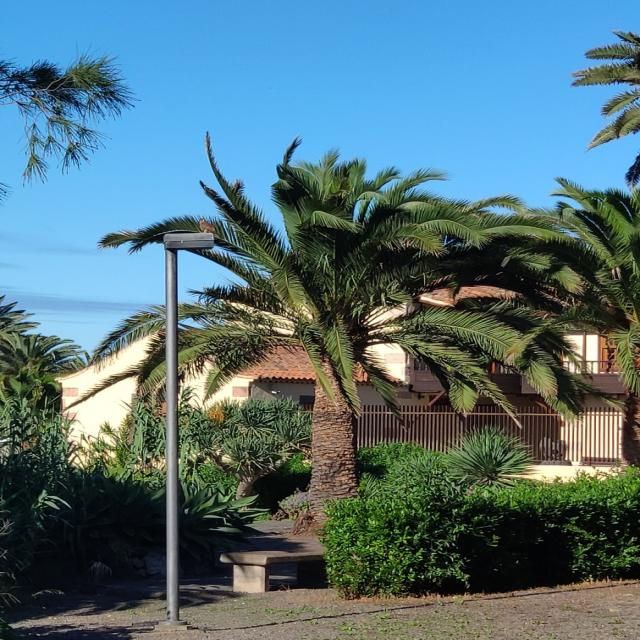Palm-Trees: (103, 125, 582, 537)
